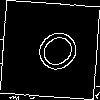O: (25, 25, 85, 84)
